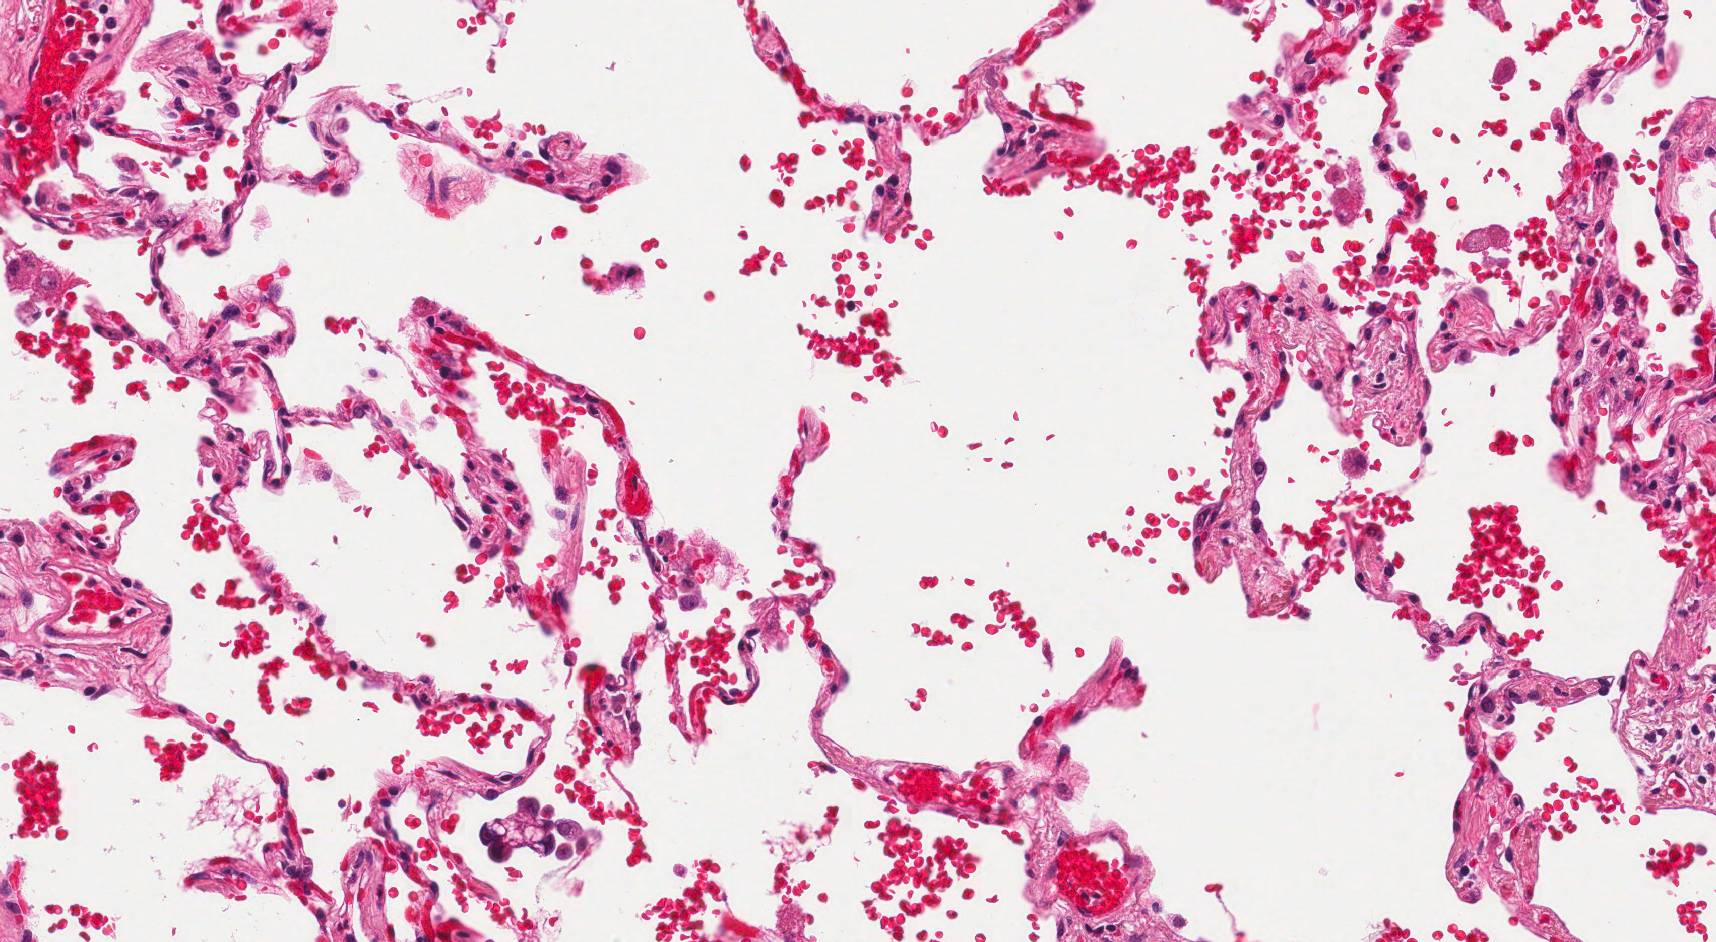stas: (479, 798, 603, 863)
